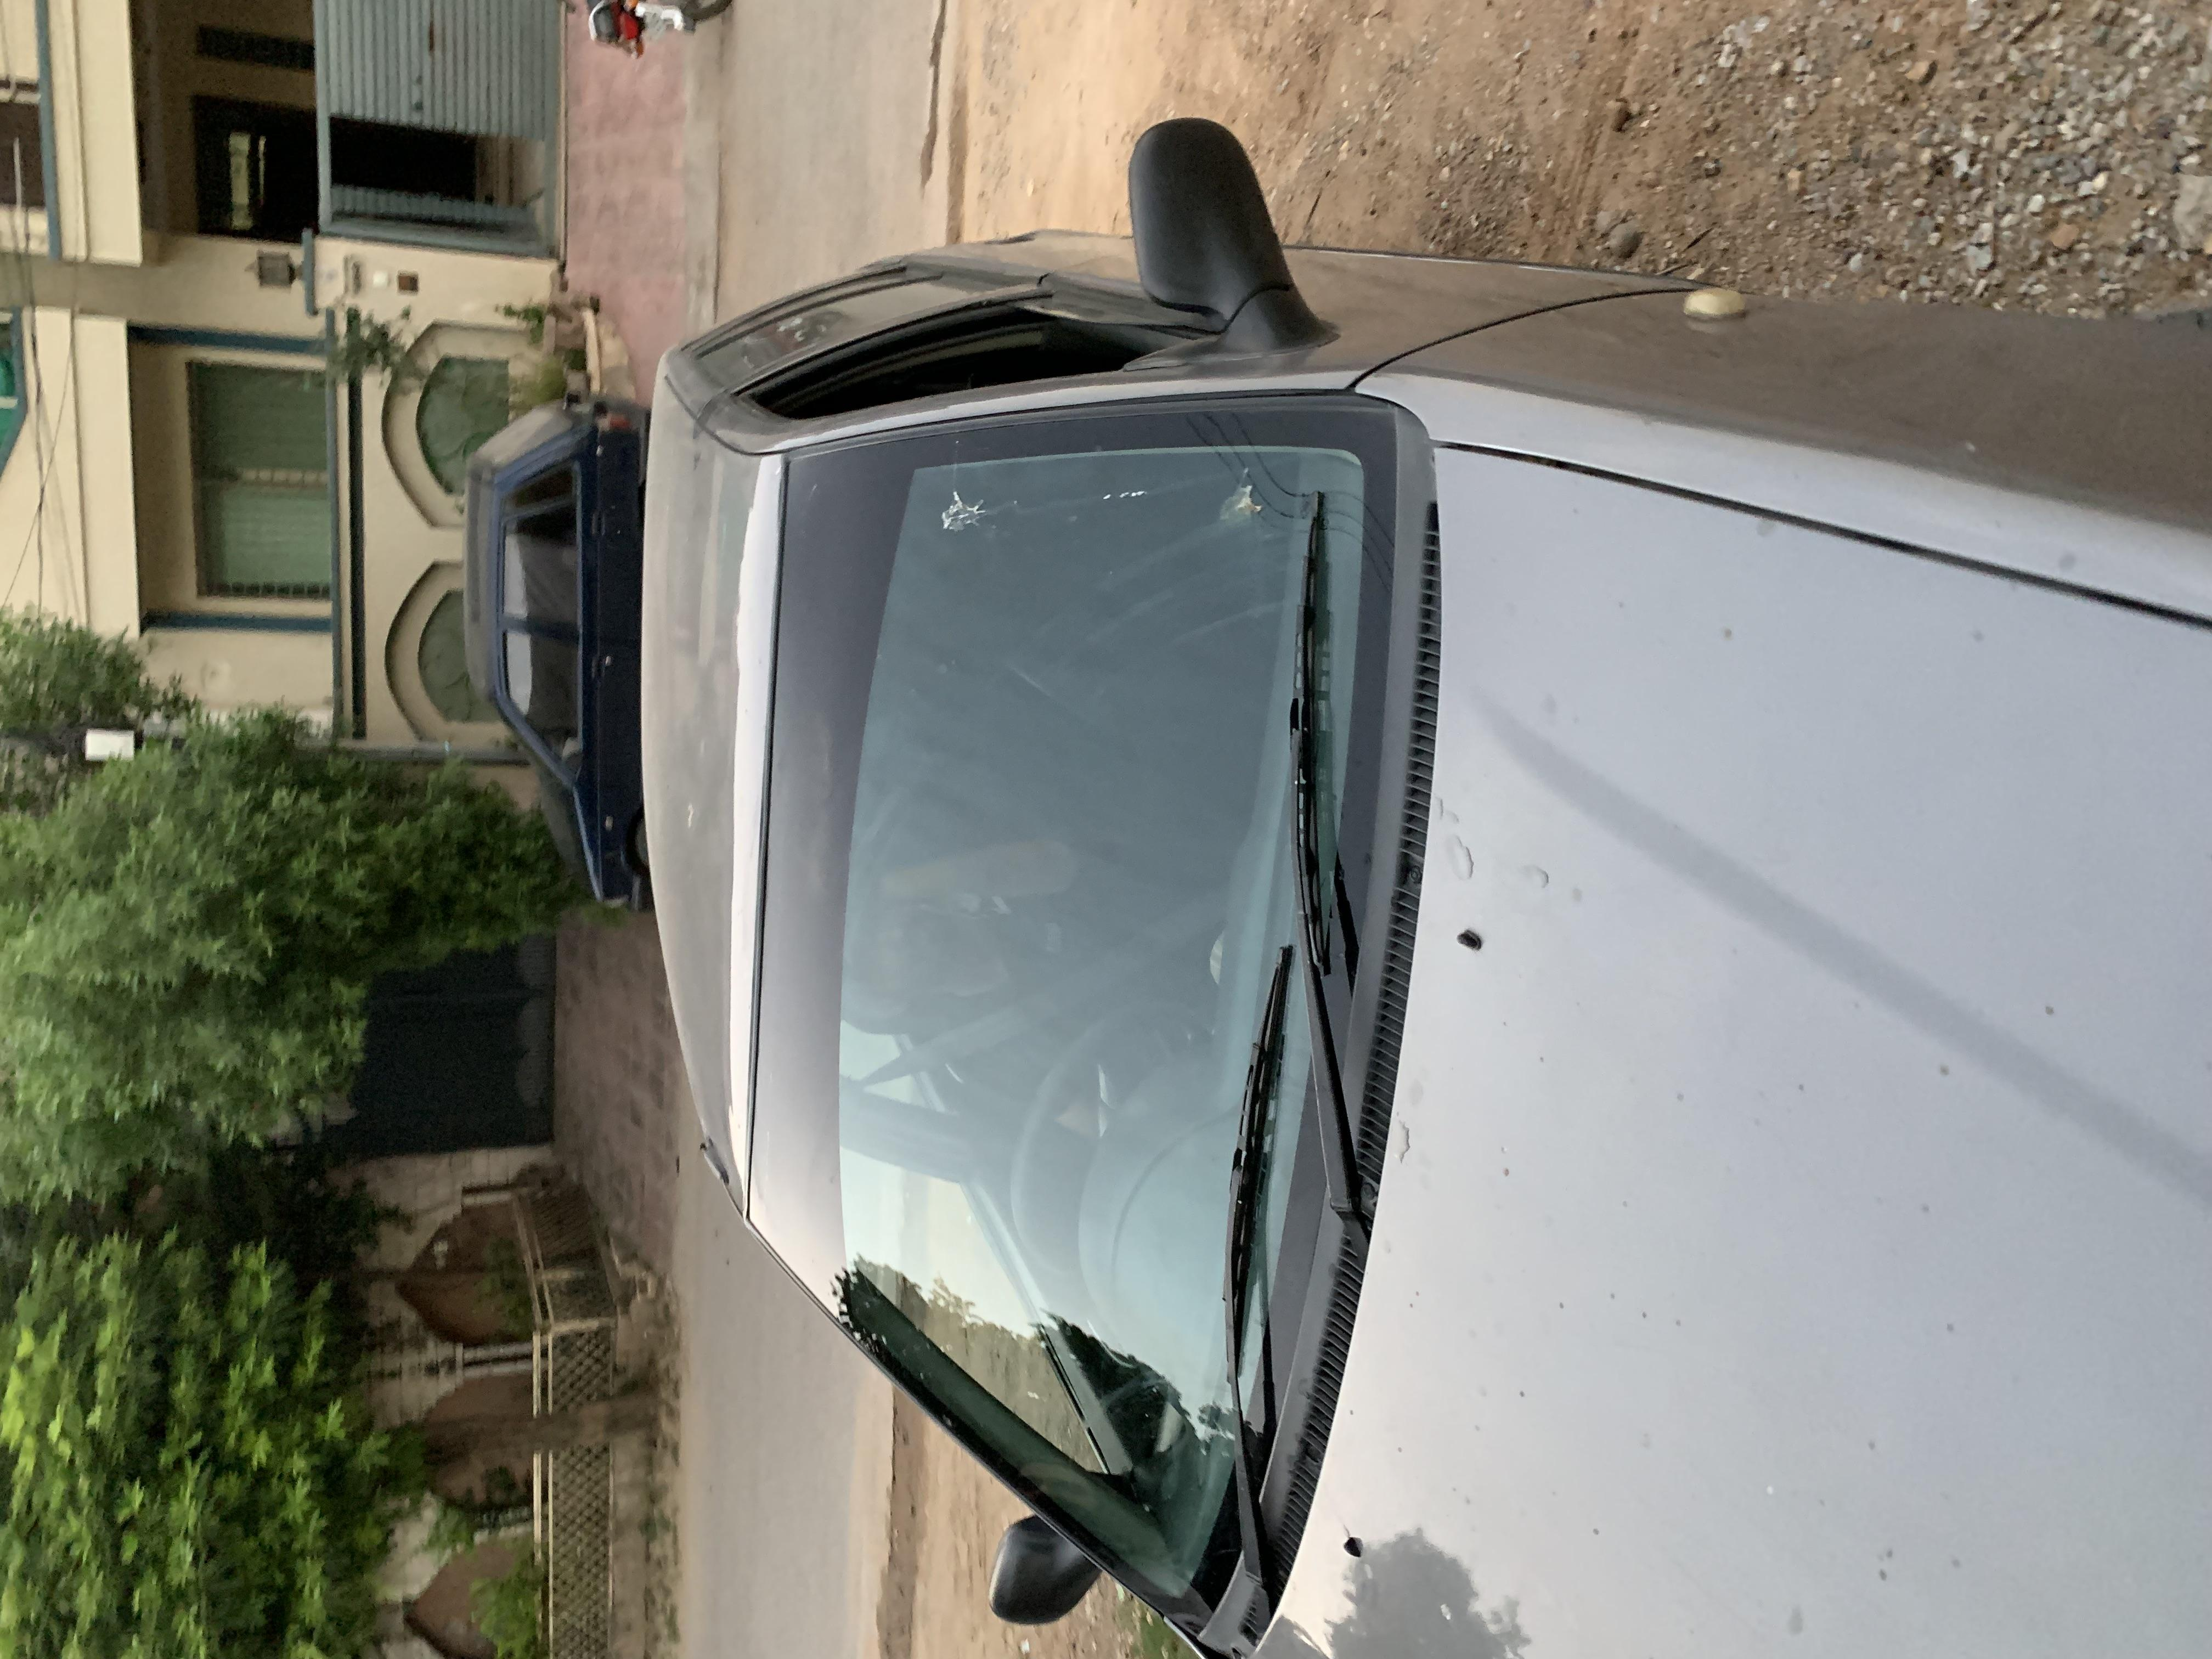windshield: (2, 563, 1662, 1066)
